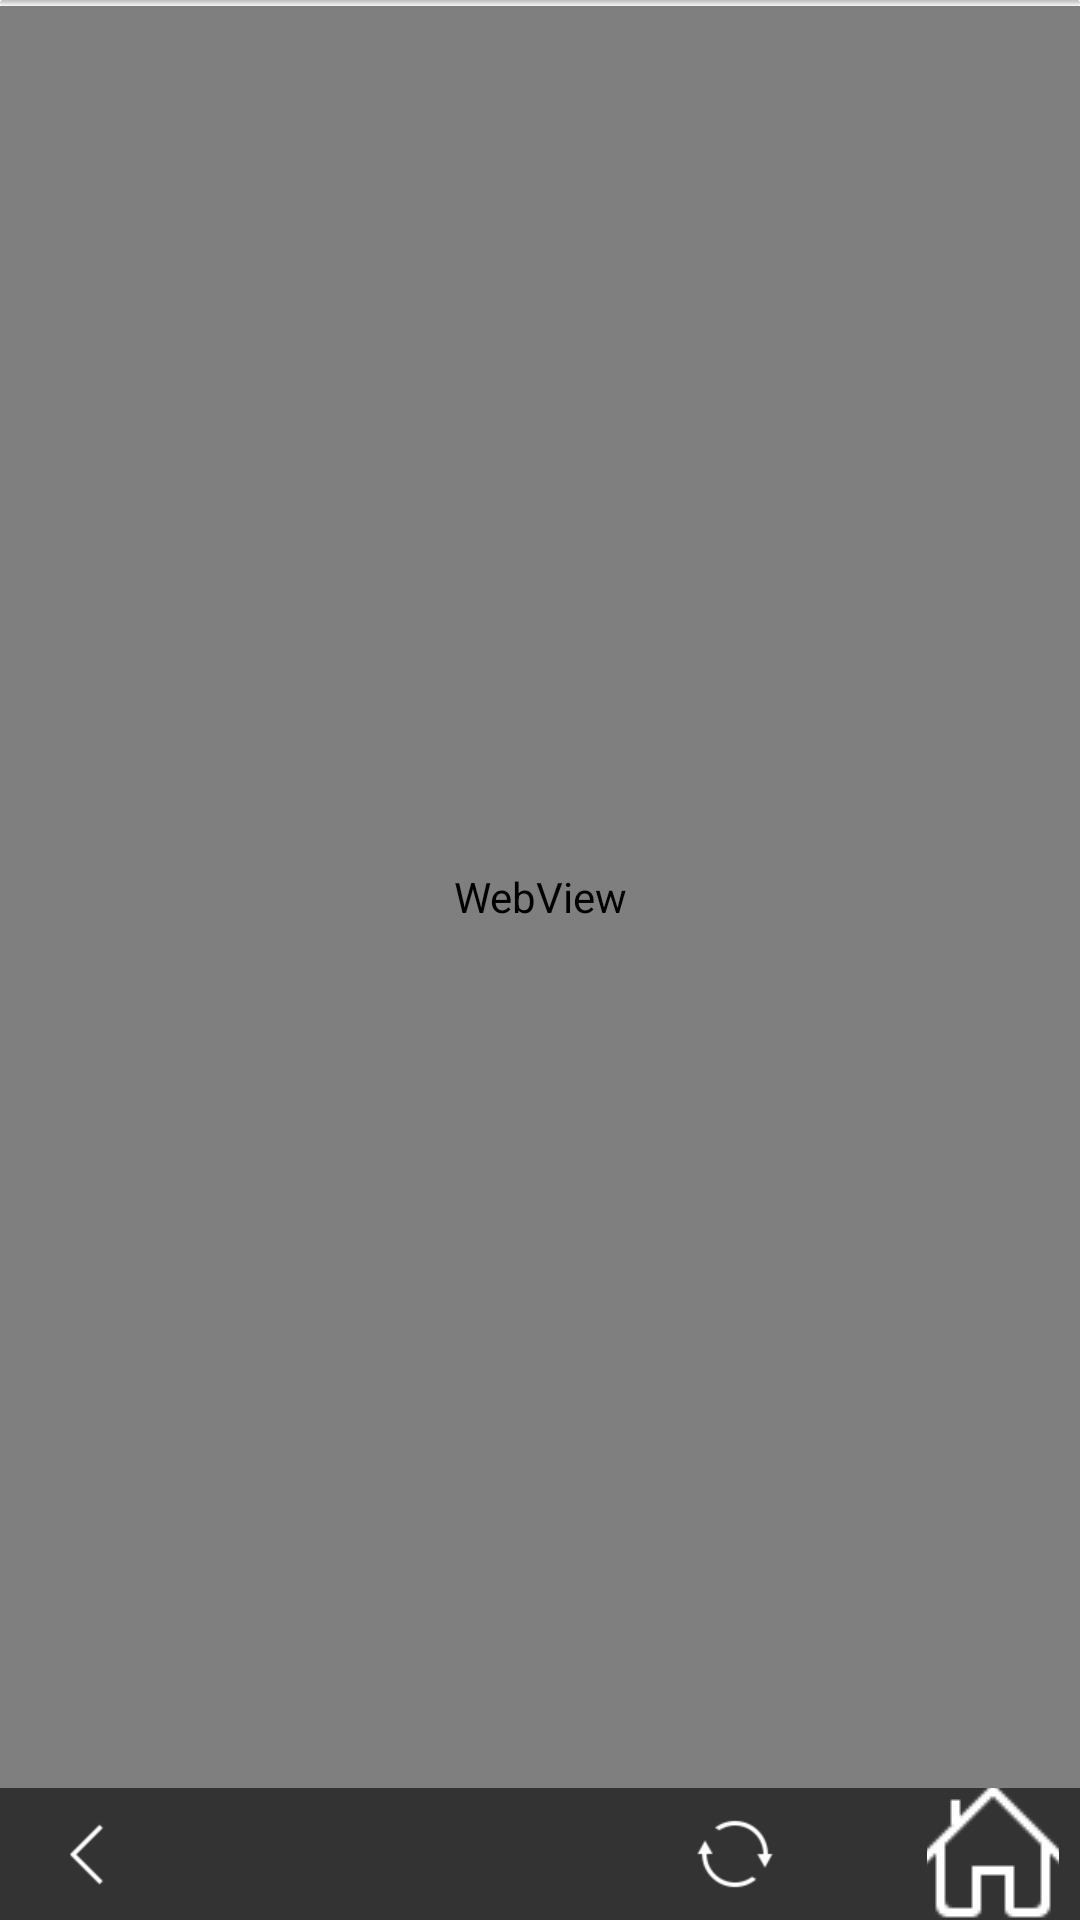

Named icons in this screenshot (1080x1920) and their bounding boxes, Rect(x1, y1, x2, y2):
home: Rect(927, 1788, 1059, 1918)
left page: Rect(70, 1824, 103, 1885)
refresh page: Rect(697, 1820, 773, 1888)
